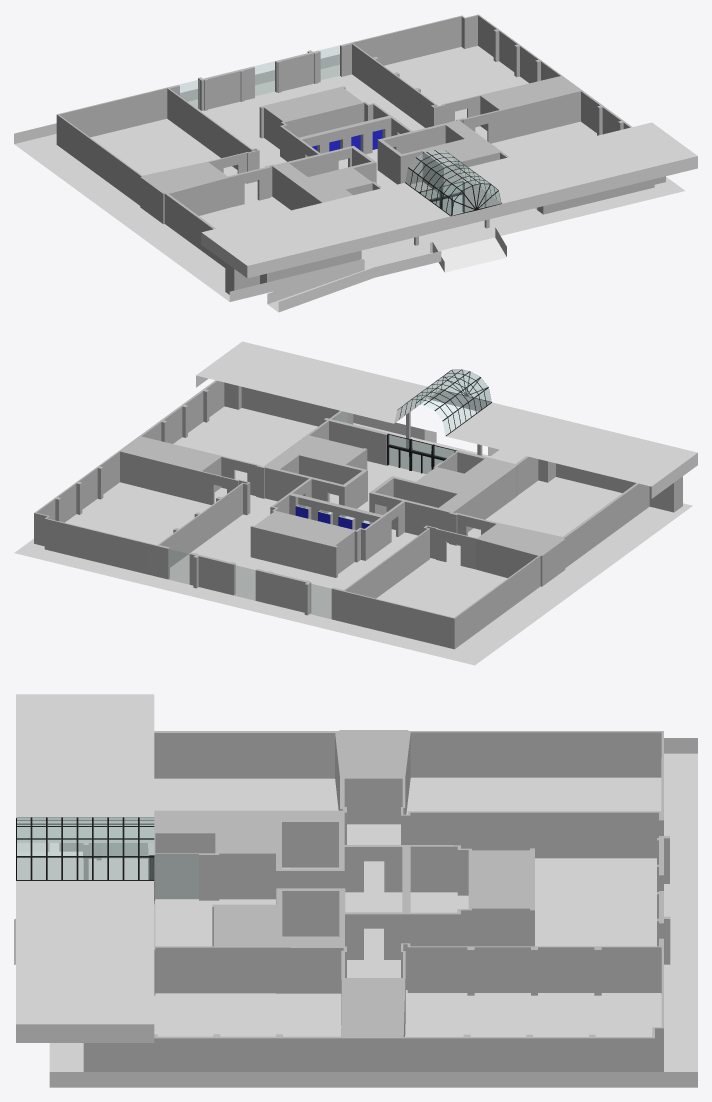
Rendered from Pianoterra.glb.
The picture shows the model from 3 angles, top to bottom: view 1: azimuth 30°, elevation 25°; view 2: azimuth 150°, elevation 25°; view 3: azimuth 270°, elevation 25°; orthographic projection. The views are drawn at different scales.
Visible parts, largest first — view 1: Pareti, Pavimento, Fronte, Ringhiera.Scale, Ringhiera.004, Ringhiera.002, Pareti.001; view 2: Pareti, Pavimento, Fronte, Pareti.001, Ringhiera.001; view 3: Pareti, Pavimento, Fronte, Ringhiera.
Boxes of the visible parts, x1,y1,x2,y2 form: Pareti: (56,14,665,294); Pavimento: (14,46,684,312); Fronte: (201,122,697,278); Ringhiera.Scale: (267,260,374,312); Ringhiera.004: (229,242,444,301); Ringhiera.002: (14,54,339,143); Pareti.001: (419,181,464,212); Pareti: (34,380,682,649); Pavimento: (14,406,692,665); Fronte: (196,341,697,498); Pareti.001: (387,433,456,470); Ringhiera.001: (353,414,436,442); Pareti: (59,730,670,1071); Pavimento: (14,753,697,1071); Fronte: (16,694,154,1042); Ringhiera: (49,1072,697,1087).
Size of the model in its own units: 23.59 by 3.94 by 20.36.
